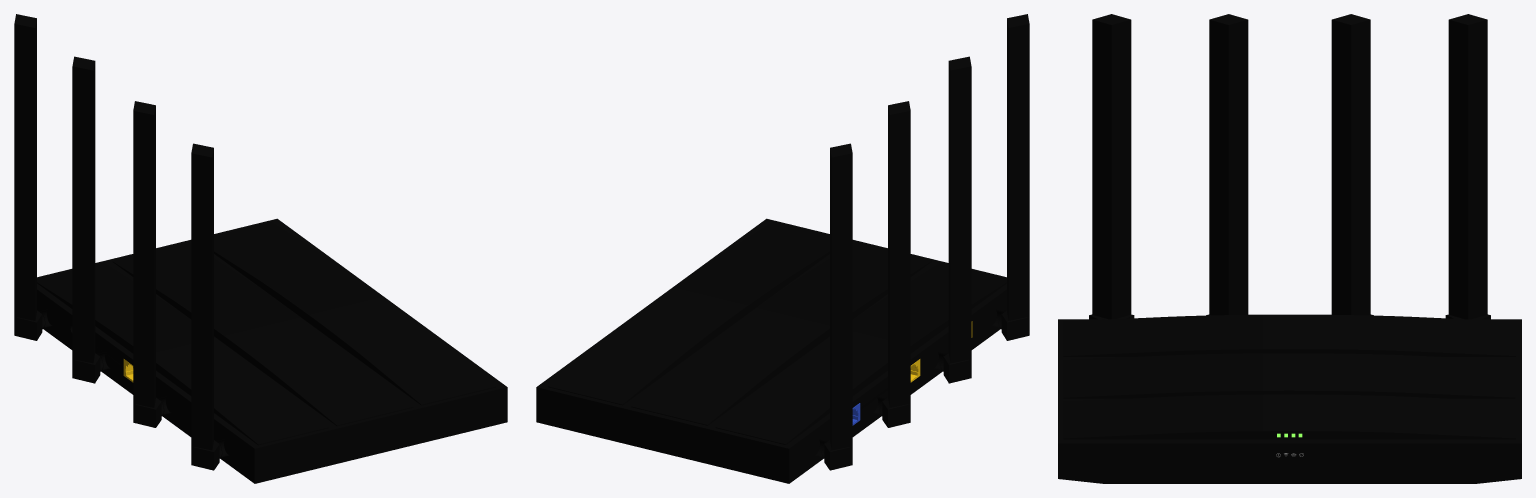
Rendered from router.glb.
3 renders of one model, left to right at view 1: azimuth 30°, elevation 25°; view 2: azimuth 150°, elevation 25°; view 3: azimuth 270°, elevation 25°, orthographic.
Visible parts, largest first — view 1: Cube; view 2: Cube; view 3: Cube.
Boxes of the visible parts, box(x1,y1,x2,y2) form: Cube: box(14, 14, 507, 483); Cube: box(536, 14, 1029, 483); Cube: box(1058, 14, 1521, 483).
Bounding box in the file's own units: 5.17 × 5.78 × 7.12.
Materials: 4 (4 with a texture image).
